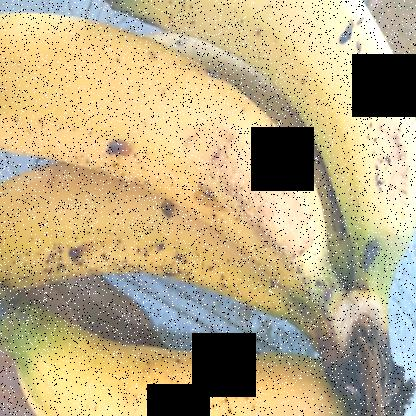ripe: (0, 12, 347, 297), (93, 0, 415, 280), (0, 138, 328, 345), (13, 313, 383, 415)
